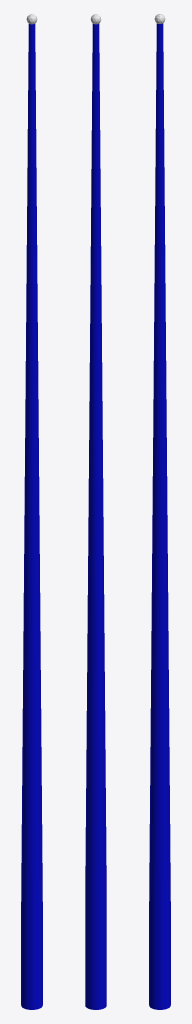
File: hamina_flagpole.gltf
3 views of the same model, side by side, from view 1: azimuth 90°, elevation 25°; view 2: azimuth 150°, elevation 25°; view 3: azimuth 270°, elevation 25° (orthographic).
Parts seen in each view (by area): view 1: Cylinder; view 2: Cylinder; view 3: Cylinder.
Boxes of the visible parts, <box> form: Cylinder: <box>21,24,42,1009</box>; Cylinder: <box>85,23,106,1009</box>; Cylinder: <box>149,23,170,1009</box>.
Bounding box in the file's own units: 2 × 101 × 2.
